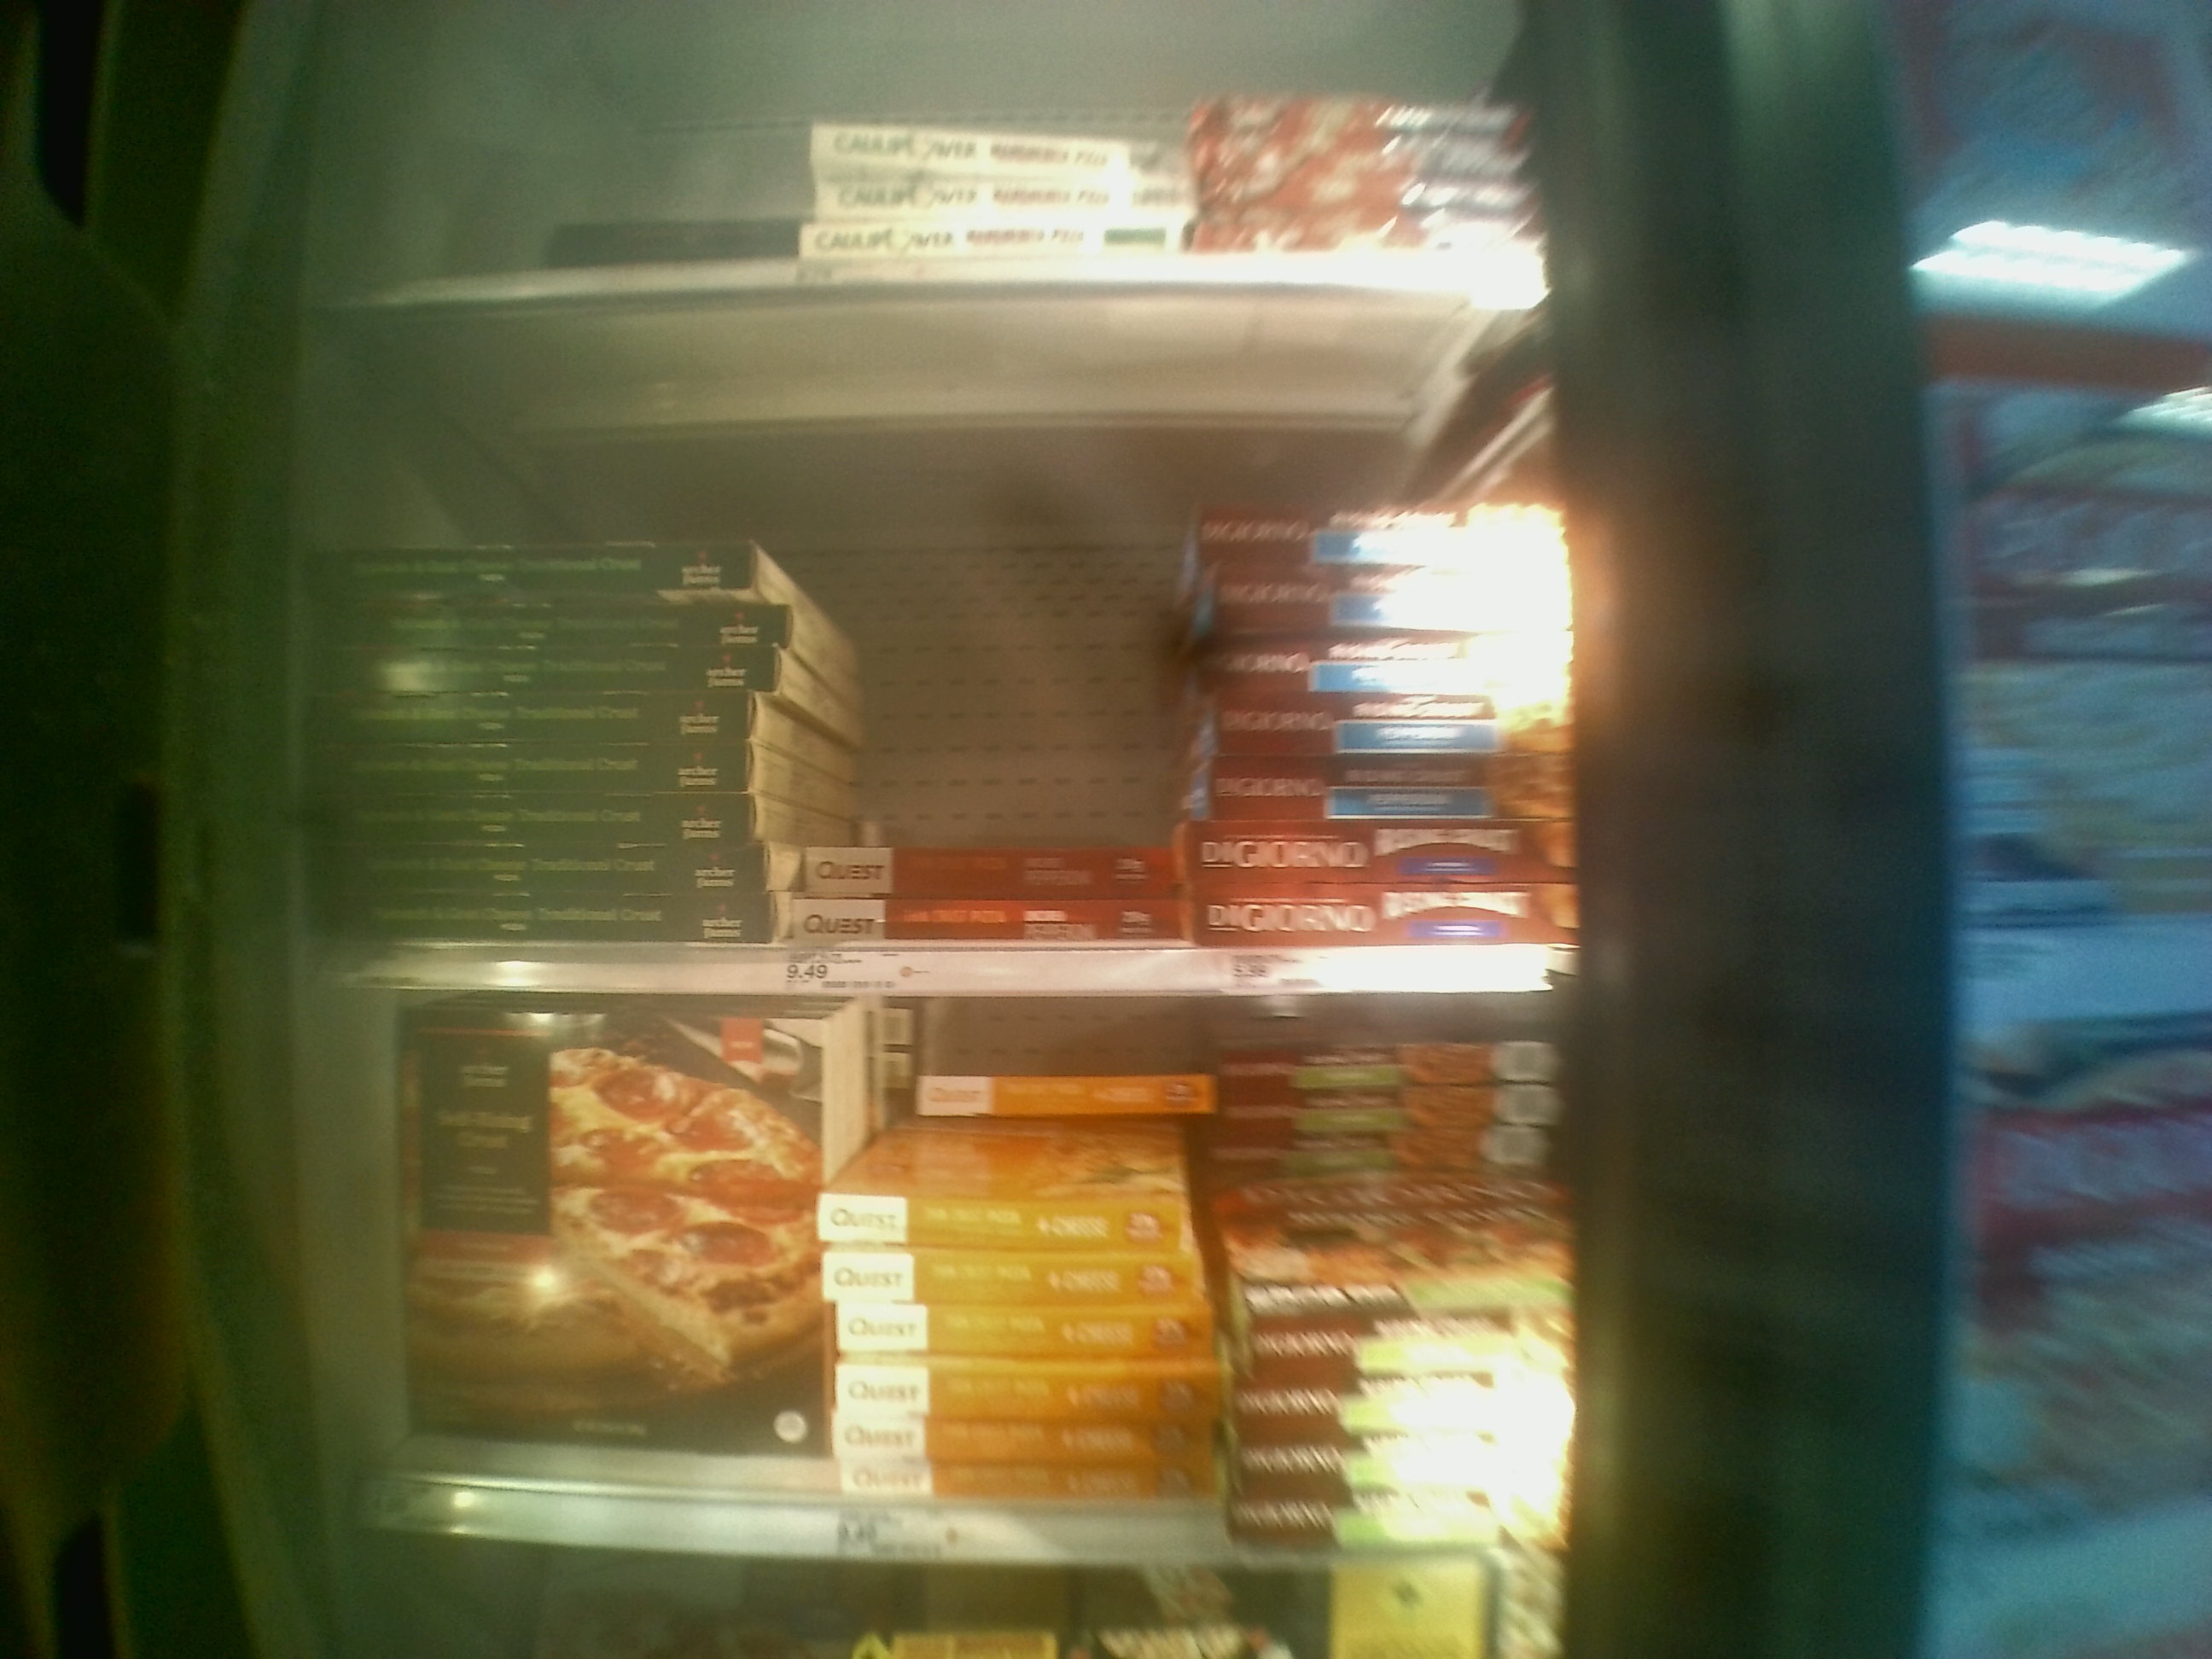pizza: (387, 1028, 803, 1466), (1230, 1190, 1545, 1300), (326, 538, 761, 601), (352, 643, 777, 702), (817, 1300, 1214, 1356), (1240, 1497, 1550, 1567), (810, 1185, 1197, 1239), (1195, 763, 1557, 819), (813, 122, 1183, 176), (853, 1110, 1150, 1176), (347, 807, 752, 852), (1211, 701, 1557, 753), (1245, 1324, 1569, 1380), (355, 748, 749, 793), (1200, 505, 1576, 552), (1228, 1124, 1555, 1176), (1200, 889, 1569, 934), (1240, 1436, 1571, 1486), (829, 1419, 1184, 1466), (1205, 647, 1561, 694), (322, 694, 737, 734), (307, 849, 756, 885), (824, 1251, 1184, 1297), (829, 1361, 1200, 1405), (1174, 835, 1571, 875), (796, 897, 1188, 938), (338, 899, 765, 934), (1214, 580, 1569, 622), (1237, 1385, 1569, 1425), (796, 843, 1155, 880), (361, 608, 787, 638), (841, 1467, 1211, 1497), (822, 179, 1176, 209), (1228, 1054, 1545, 1086), (914, 1079, 1205, 1110), (1230, 1094, 1552, 1121), (812, 230, 1158, 251)
